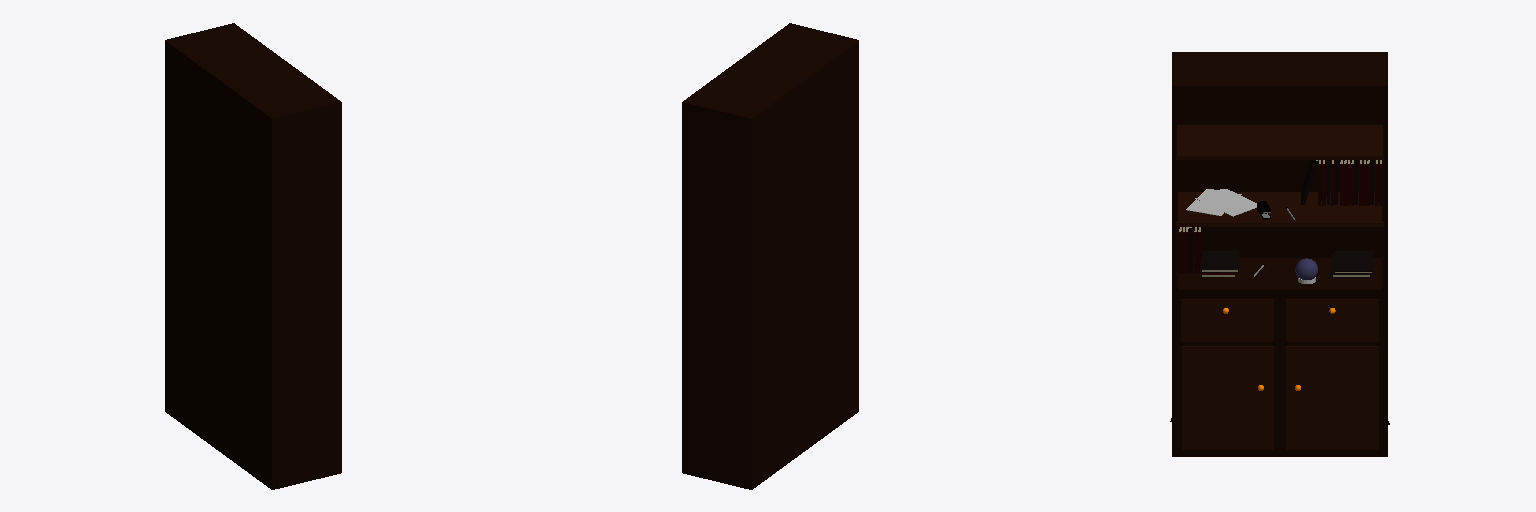
Rendered from bookshelf.obj.
The picture shows the model from 3 angles: view 1: azimuth 30°, elevation 25°; view 2: azimuth 150°, elevation 25°; view 3: azimuth 270°, elevation 25°; orthographic projection.
Visible parts, largest first — view 1: pCube1_Malha; view 2: pCube1_Malha; view 3: pCube1_Malha, pasted__pCube3.001_Malha.036, pasted__pasted__pCube3_Malha.037, pasted__pCube2_Malha.002, pCube2_Malha.001, pasted__pCube3_Malha.004, pCube3_Malha.003, pasted__pasted__pCube6_Malha.011, pasted__pCube7_Malha.041, pasted__pCube6.001_Malha.010, pasted__group14_pasted__group9_pasted__group8_pasted__p_a85ab60_, pasted__group14_pasted__group9_pasted__group8_pasted__p_a85_Malh (+2 smaller).
Part boxes in pixels (x1,y1,x2,y2): pCube1_Malha: (165, 23, 341, 489); pCube1_Malha: (682, 23, 858, 489); pCube1_Malha: (1170, 52, 1389, 456); pasted__pCube3.001_Malha.036: (1286, 346, 1378, 449); pasted__pasted__pCube3_Malha.037: (1182, 346, 1273, 449); pasted__pCube2_Malha.002: (1176, 125, 1383, 159); pCube2_Malha.001: (1176, 192, 1383, 226); pasted__pCube3_Malha.004: (1181, 299, 1273, 341); pCube3_Malha.003: (1286, 299, 1378, 341); pasted__pasted__pCube6_Malha.011: (1334, 251, 1372, 274); pasted__pCube7_Malha.041: (1195, 189, 1256, 216); pasted__pCube6.001_Malha.010: (1201, 251, 1238, 272); pasted__group14_pasted__group9_pasted__group8_pasted__p_a85ab60_: (1185, 227, 1201, 273); pasted__group14_pasted__group9_pasted__group8_pasted__p_a85_Malh: (1366, 160, 1382, 205).
Bounding box in the file's own units: 0.0428 × 0.2016 × 0.1084.